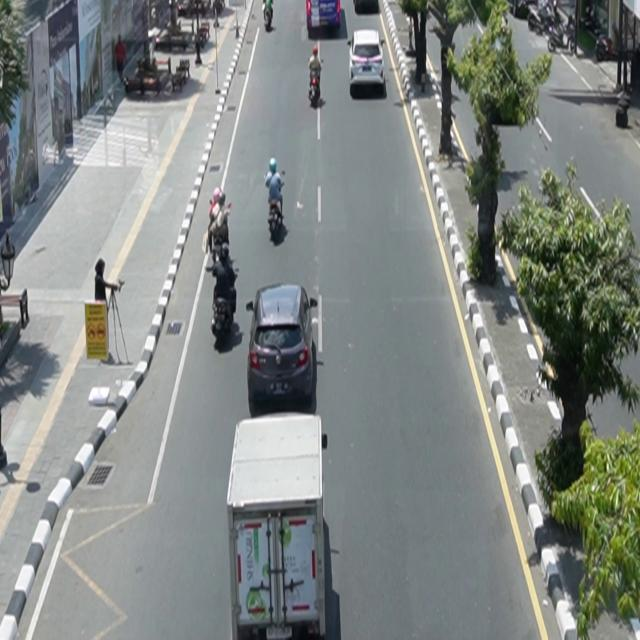car: (247, 283, 319, 411), (348, 30, 386, 87)
truck: (227, 412, 330, 640)
